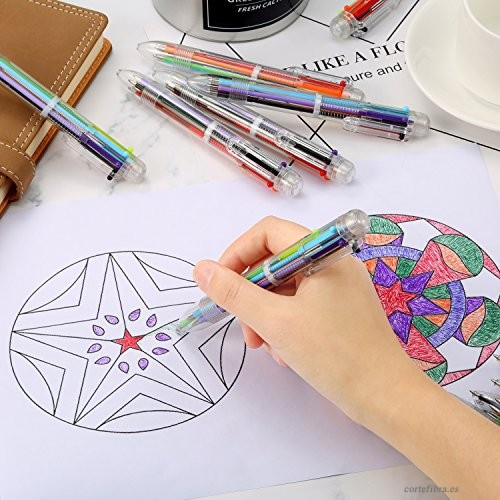Boligrafo: (118, 65, 308, 198), (177, 210, 371, 340), (161, 84, 361, 186), (1, 55, 146, 184), (189, 68, 431, 143), (136, 36, 370, 104), (331, 1, 405, 39)
